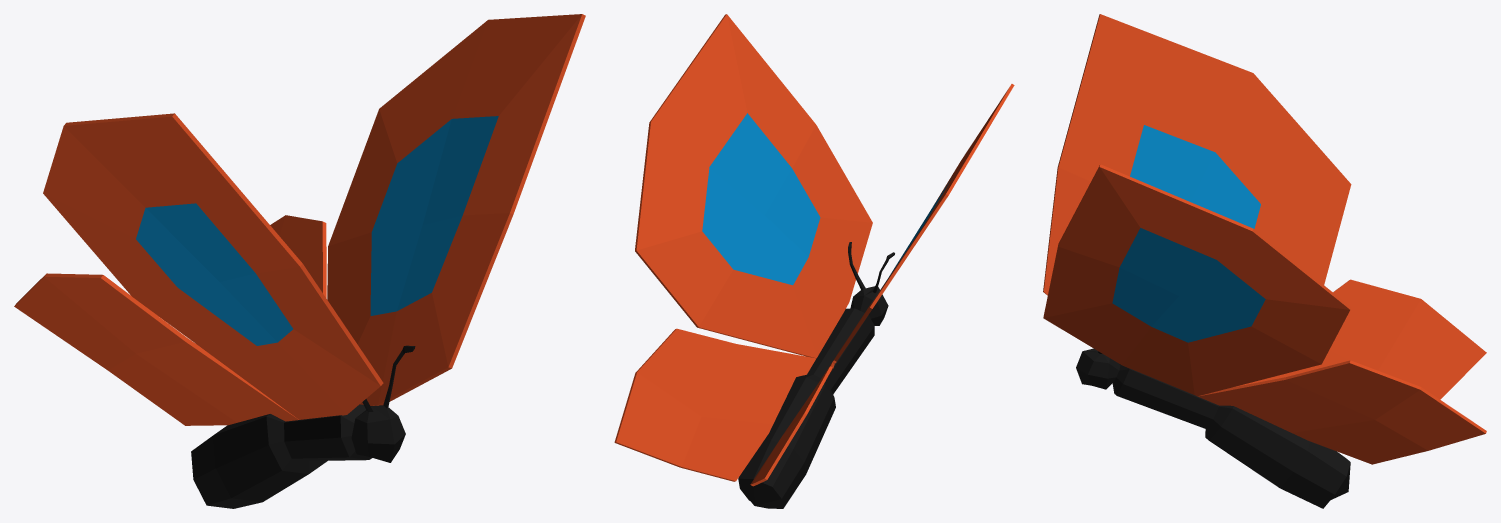
Rendered from Butterfly_01.fbx.
3 views of the same model, side by side, from view 1: azimuth 30°, elevation 25°; view 2: azimuth 150°, elevation 25°; view 3: azimuth 270°, elevation 25° (orthographic). The views are drawn at different scales.
Parts seen in each view (by area): view 1: Butterfly_01; view 2: Butterfly_01; view 3: Butterfly_01.
Boxes of the visible parts, x1=… form: Butterfly_01: x1=14, y1=14, x2=585, y2=508; Butterfly_01: x1=614, y1=14, x2=1014, y2=508; Butterfly_01: x1=1043, y1=14, x2=1486, y2=508.
Size of the model in its own units: 3.97 by 4.88 by 4.72.
